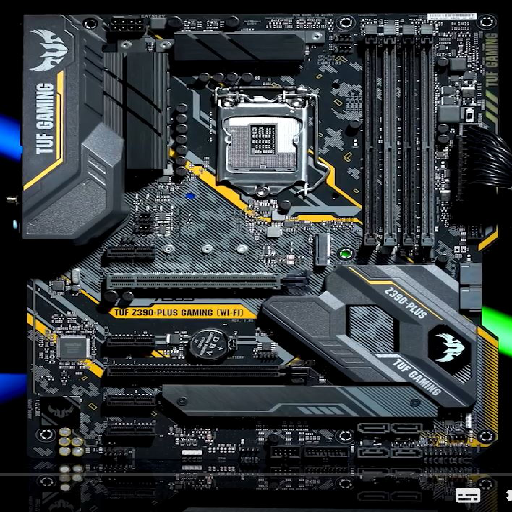CPU: (214, 85, 310, 200)
GPU: (104, 358, 316, 381), (103, 269, 312, 292)
MOTHERBOARD: (25, 14, 499, 482)
RAM: (362, 25, 438, 252)
SSD: (311, 233, 332, 266)
